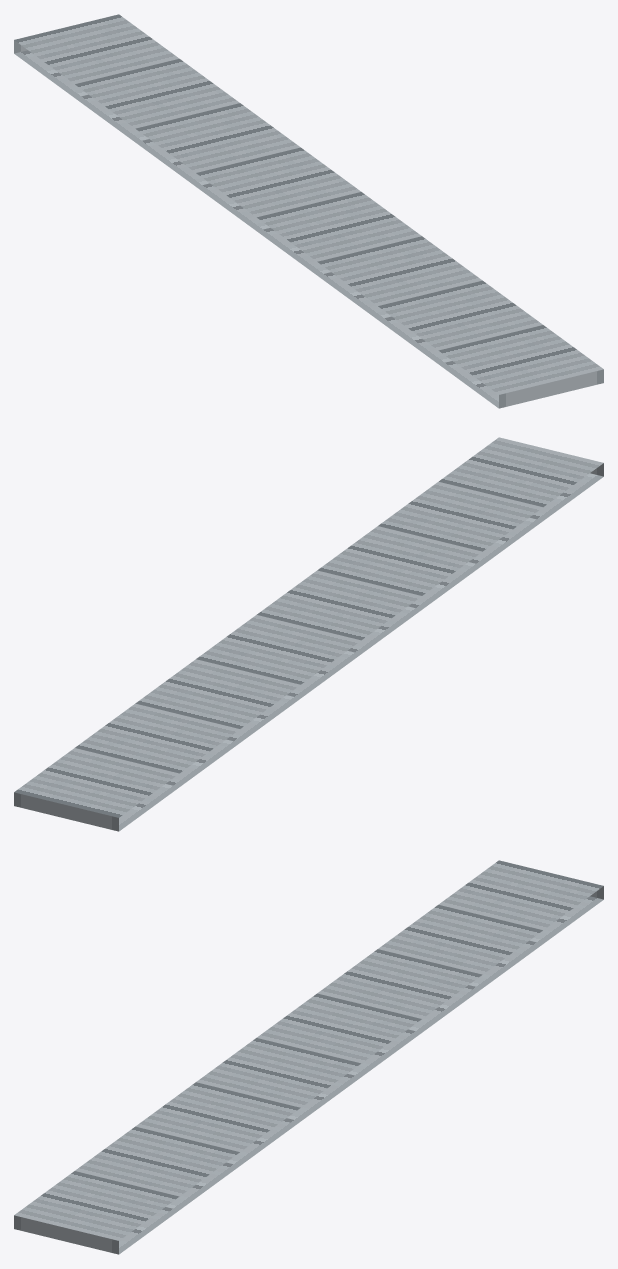
Rendered from commercial_run_8.obj.
3 renders of one model, top to bottom at view 1: azimuth 30°, elevation 25°; view 2: azimuth 150°, elevation 25°; view 3: azimuth 330°, elevation 25°, orthographic.
Parts seen in each view (by area): view 1: run; view 2: run; view 3: run.
Boxes of the visible parts, bbox=[...] form: run: bbox=[14, 14, 603, 408]; run: bbox=[14, 437, 603, 831]; run: bbox=[14, 860, 603, 1254].
Bounding box in the file's own units: 1 × 0.125 × 8.
